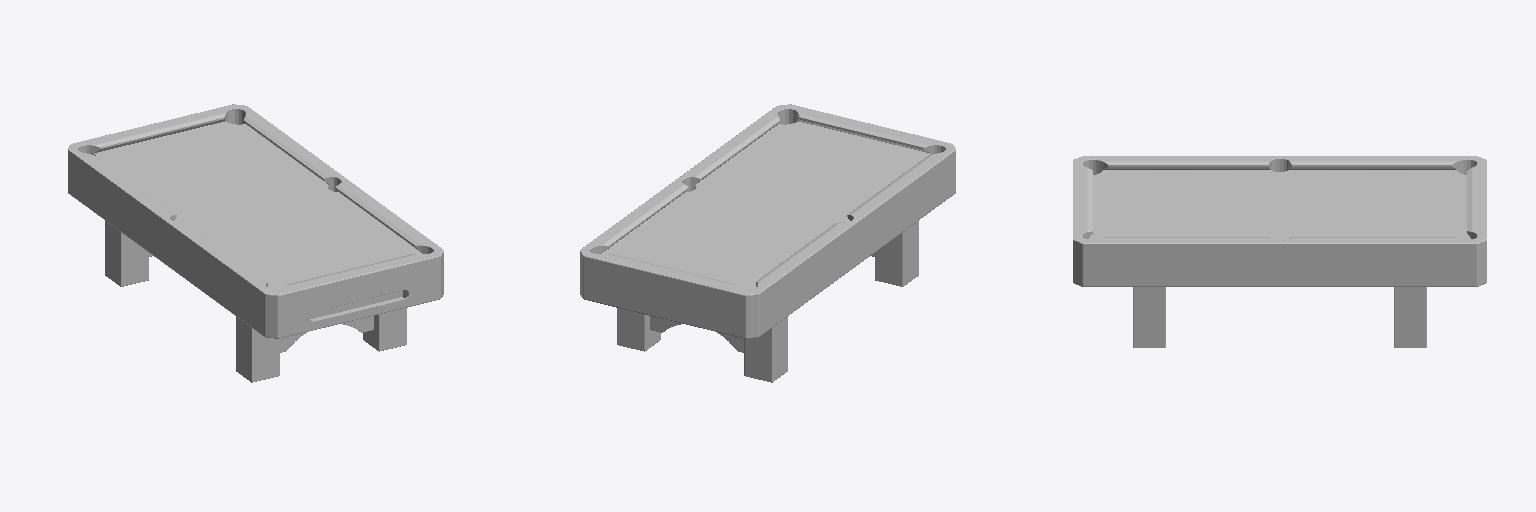
Rendered from poolTableNoBalls.obj.
3 views of the same model, side by side, from view 1: azimuth 30°, elevation 25°; view 2: azimuth 150°, elevation 25°; view 3: azimuth 270°, elevation 25° (orthographic).
Parts seen in each view (by area): view 1: 10523_Pool_Table_v1_L3.001; view 2: 10523_Pool_Table_v1_L3.001; view 3: 10523_Pool_Table_v1_L3.001.
Boxes of the visible parts, x1,y1,x2,y2 form: 10523_Pool_Table_v1_L3.001: [68, 104, 443, 382]; 10523_Pool_Table_v1_L3.001: [580, 104, 955, 382]; 10523_Pool_Table_v1_L3.001: [1073, 156, 1486, 347].
Bounding box in the file's own units: 127 × 76.2 × 254.